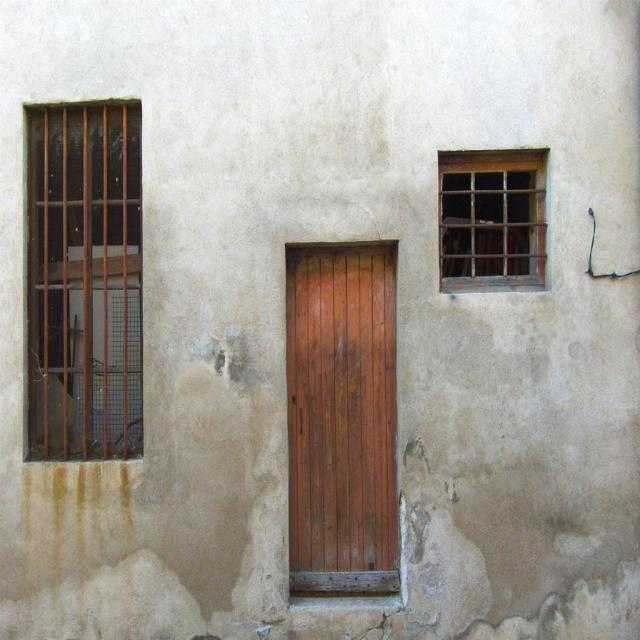door: (284, 240, 401, 600)
